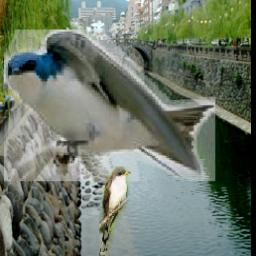Cuckoo: (99, 168, 131, 256)
Swallow: (5, 29, 216, 181)
